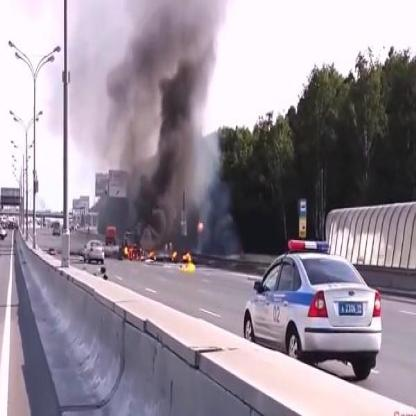fire: (122, 242, 158, 262), (172, 249, 196, 271), (196, 218, 204, 233)
